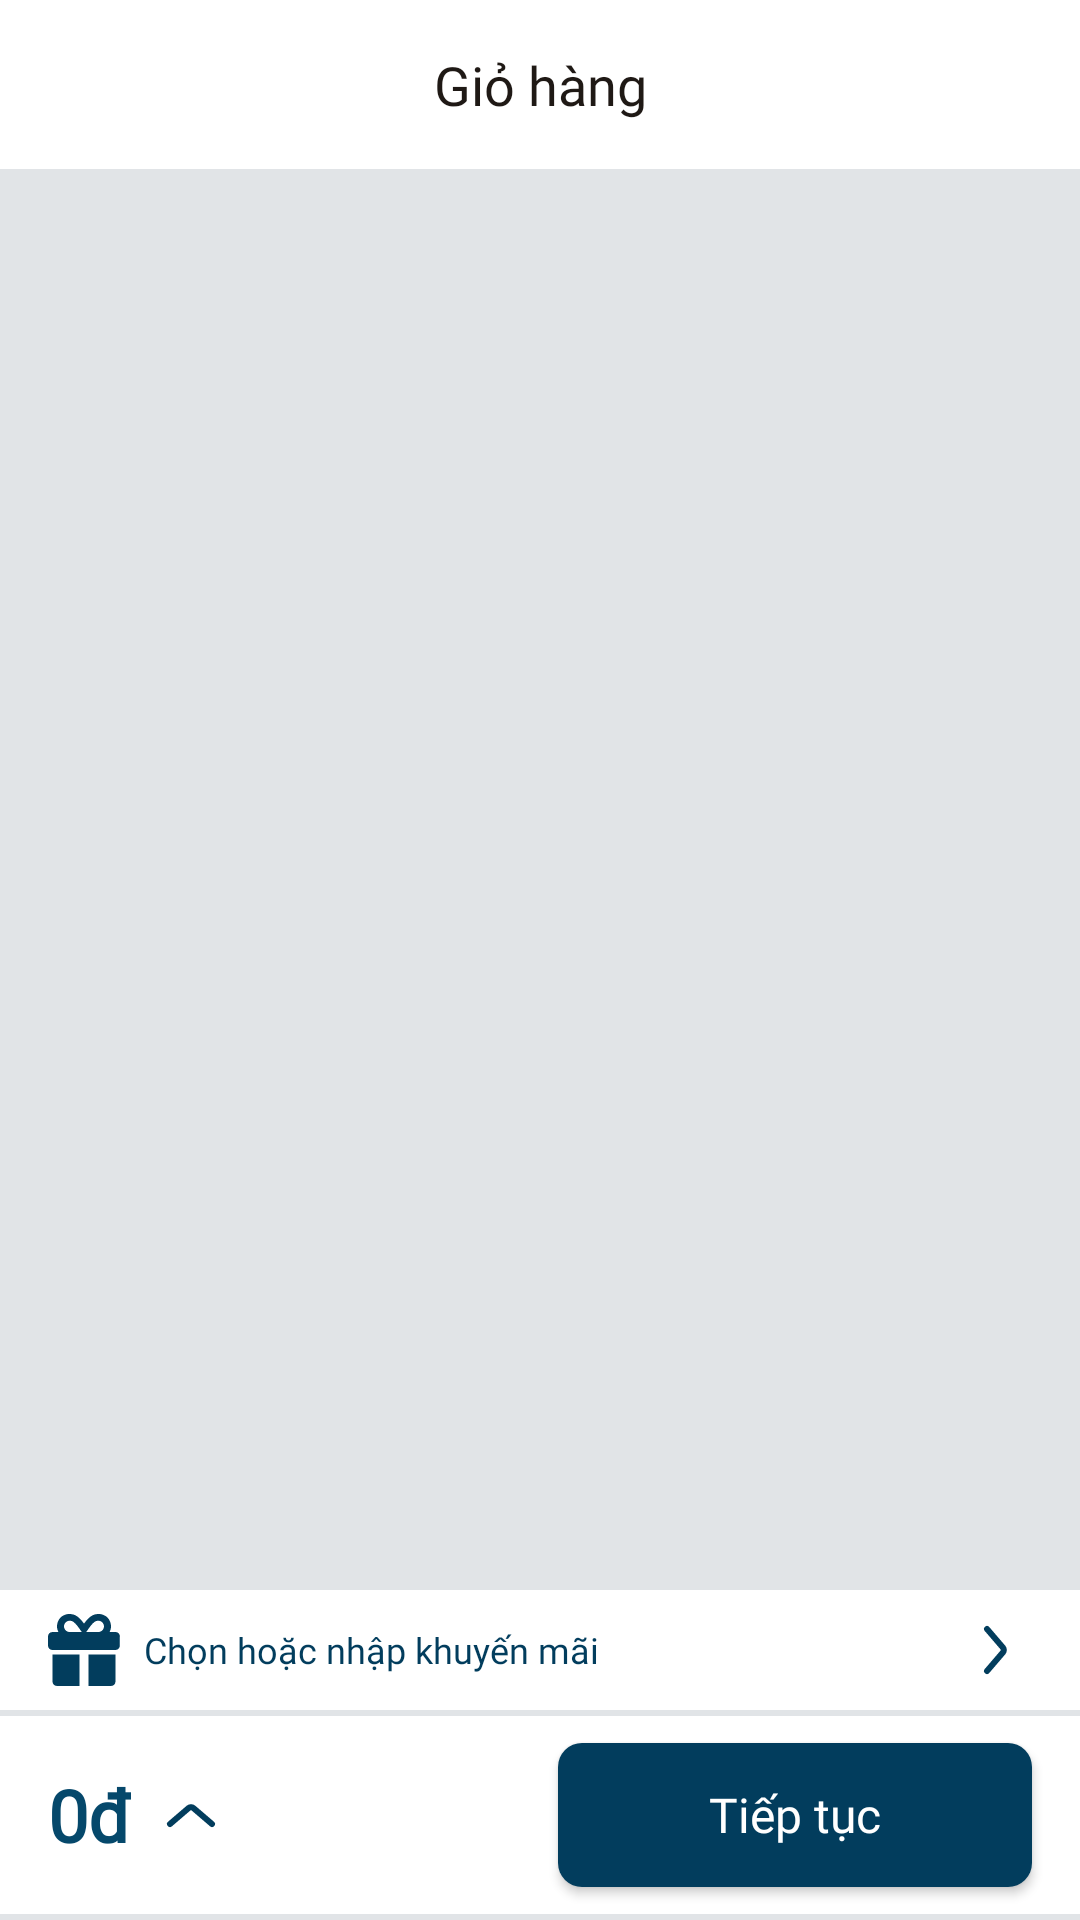

Where icons sit on this 1080w x 1920h app screen, as {"left": x1, "top": y1, "right": x2, "bottom": y2}:
arrow up: {"left": 166, "top": 1804, "right": 215, "bottom": 1827}
gift: {"left": 48, "top": 1614, "right": 120, "bottom": 1686}
